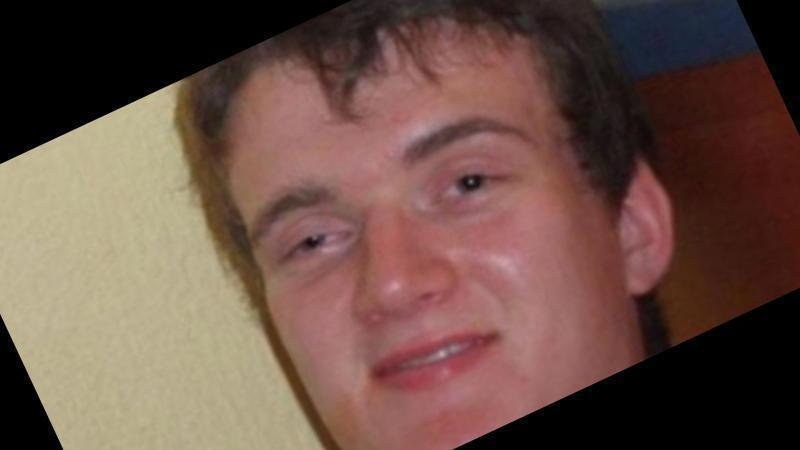Drunk: (233, 60, 618, 397)
